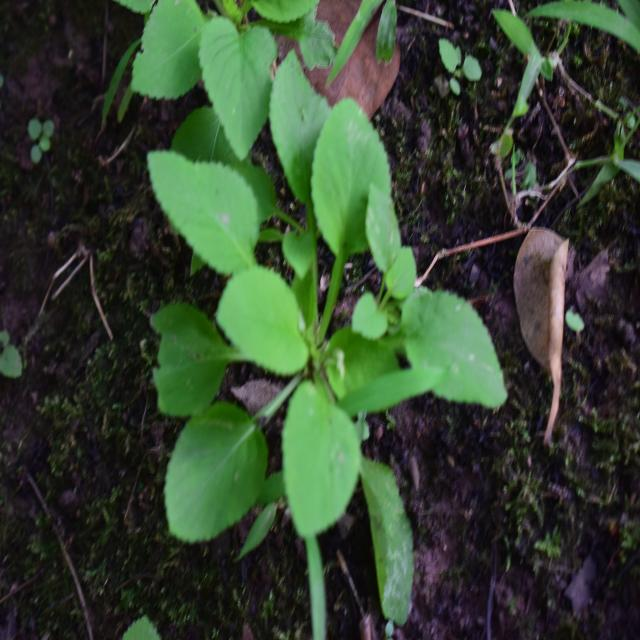Viola: (143, 99, 485, 569)
